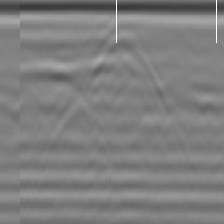Utility: (101, 23, 149, 66)
